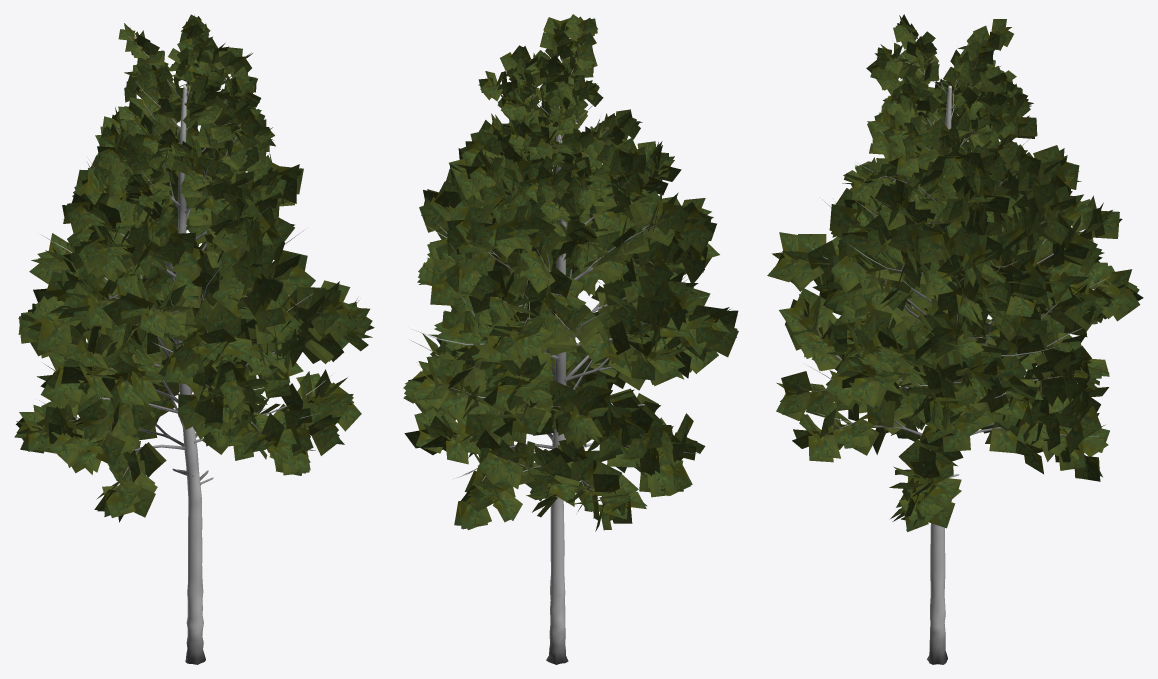
File: RedAlder_Tall_mdl.fbx
3 views of the same model, side by side, from view 1: azimuth 30°, elevation 25°; view 2: azimuth 150°, elevation 25°; view 3: azimuth 270°, elevation 25° (orthographic).
Visible parts, largest first — view 1: RedAlder_Tall_LOD0; view 2: RedAlder_Tall_LOD0; view 3: RedAlder_Tall_LOD0.
Part boxes in pixels (<box>): RedAlder_Tall_LOD0: <box>14,14,374,664</box>; RedAlder_Tall_LOD0: <box>403,14,738,664</box>; RedAlder_Tall_LOD0: <box>767,14,1143,664</box>.
Size of the model in its own units: 862 by 1649 by 881.
